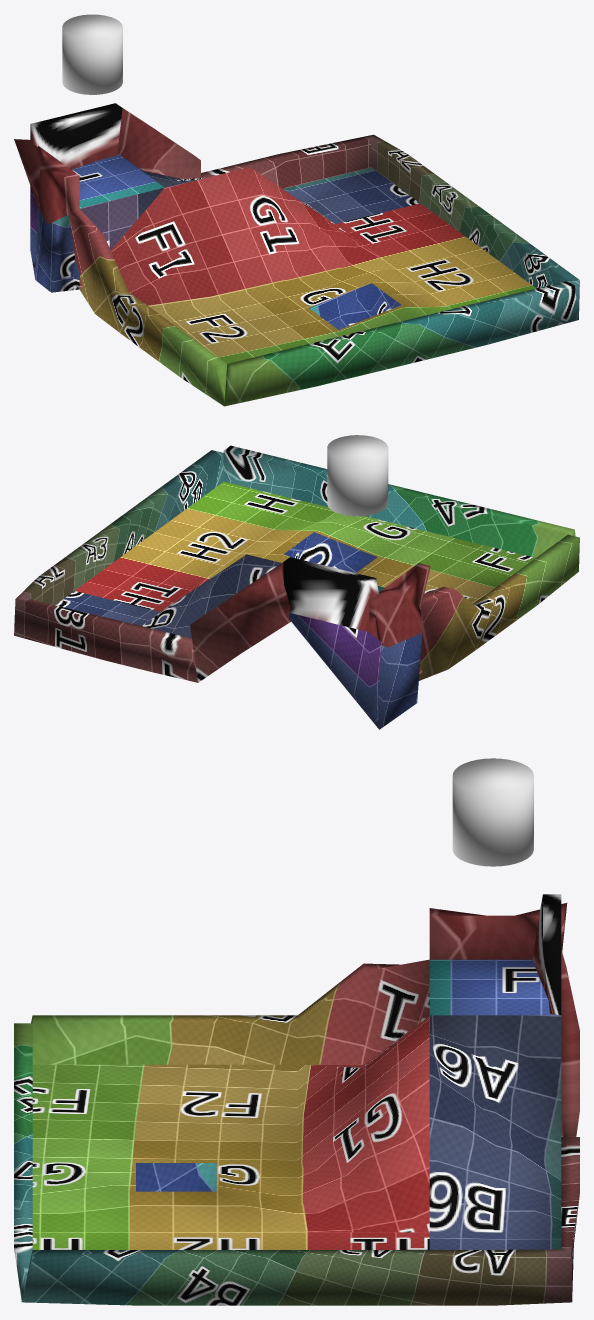
Rendered from test map.glb.
3 views of the same model, one above another, from view 1: azimuth 30°, elevation 25°; view 2: azimuth 150°, elevation 25°; view 3: azimuth 270°, elevation 25° (orthographic). The views are drawn at different scales.
Parts seen in each view (by area): view 1: Plane-col, _Cylinder; view 2: Plane-col, _Cylinder; view 3: Plane-col, _Cylinder.
Part boxes in pixels (box(x1,y1,x2,y2)): Plane-col: box(14, 103, 579, 406); _Cylinder: box(62, 14, 122, 94); Plane-col: box(14, 445, 579, 729); _Cylinder: box(327, 435, 388, 516); Plane-col: box(14, 894, 579, 1305); _Cylinder: box(452, 758, 533, 866).
Bounding box in the file's own units: 6.33 × 4.43 × 6.23.
1 material, 1 textured.
